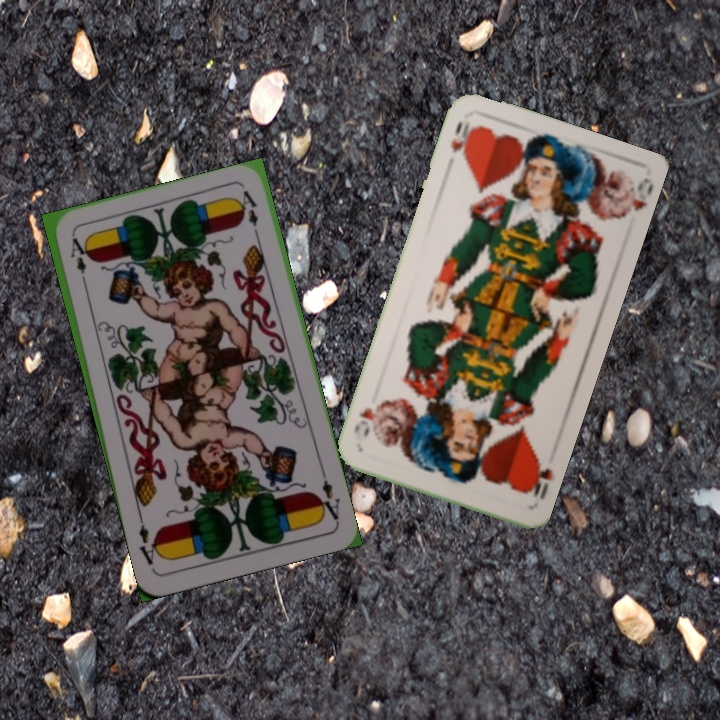EA: (313, 466, 343, 525), (66, 233, 90, 290)
HO: (521, 453, 556, 502), (447, 116, 477, 163)
